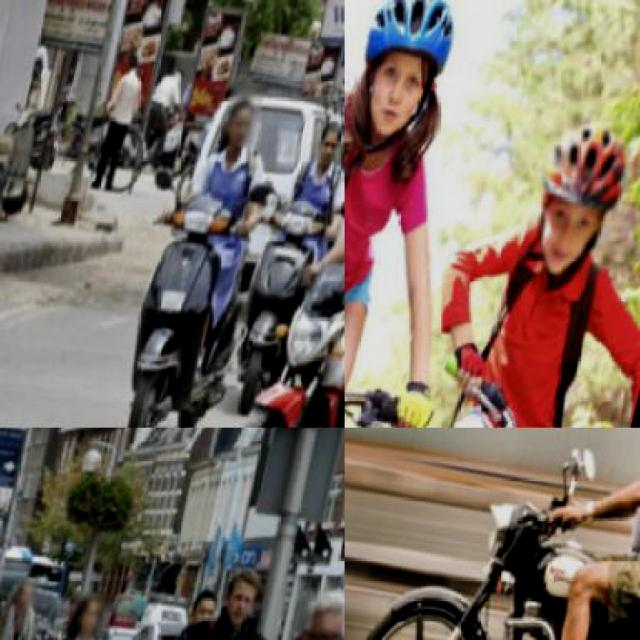With Helmet: (511, 118, 638, 304), (344, 0, 469, 155)
Without Helmet: (214, 566, 271, 639), (215, 84, 267, 161), (282, 591, 343, 638), (60, 592, 114, 638), (309, 110, 343, 182), (6, 579, 39, 619)
